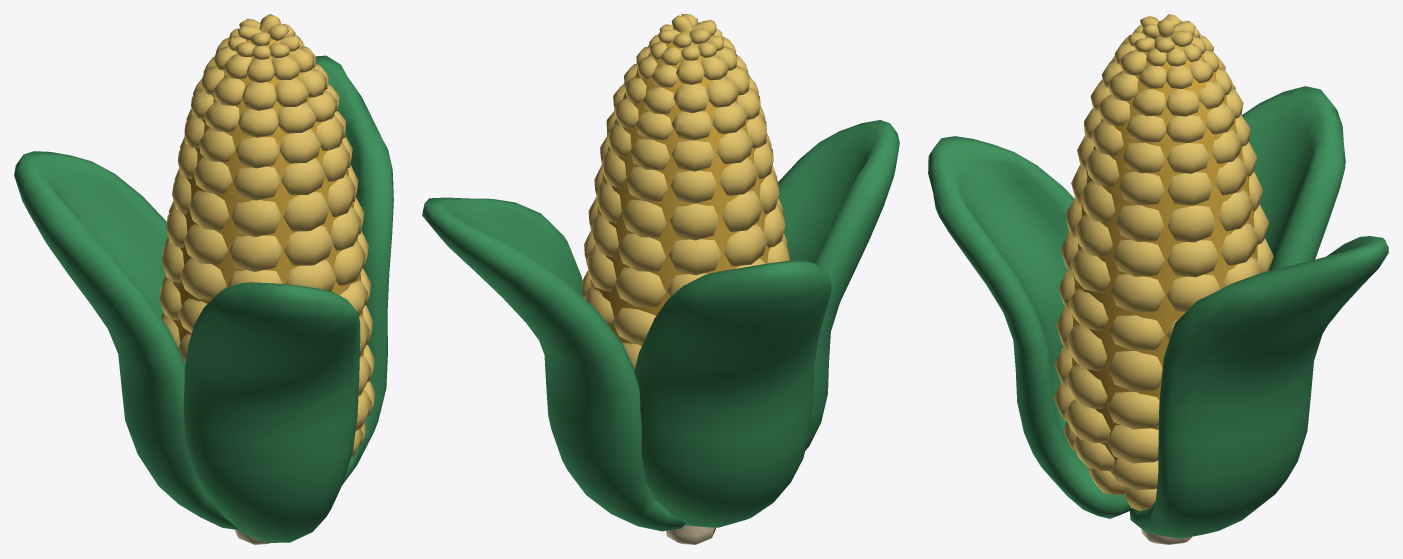
Rendered from Corn_02.dae.
The picture shows the model from 3 angles, left to right: view 1: azimuth 30°, elevation 25°; view 2: azimuth 150°, elevation 25°; view 3: azimuth 270°, elevation 25°; orthographic projection.
Parts seen in each view (by area): view 1: Corn_02_LOD0; view 2: Corn_02_LOD0; view 3: Corn_02_LOD0.
Boxes of the visible parts, x1,y1,x2,y2 form: Corn_02_LOD0: [14, 14, 393, 544]; Corn_02_LOD0: [422, 14, 899, 544]; Corn_02_LOD0: [928, 14, 1388, 544].
Size of what is drawn, in the model's own units: 4.84 by 5.37 by 6.75.
